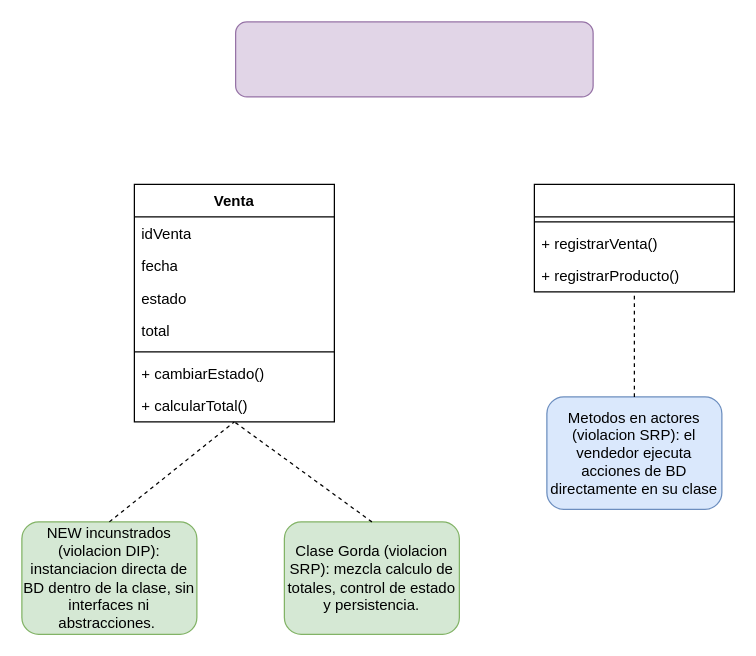
This 756x656 diagram has some shape labels left out. Here are the shapes that lost their labels. From the top down, the box of each, then its label:
(234, 21, 593, 97): DIAGRAMA ANTES
(533, 183, 734, 292): Vendedor
